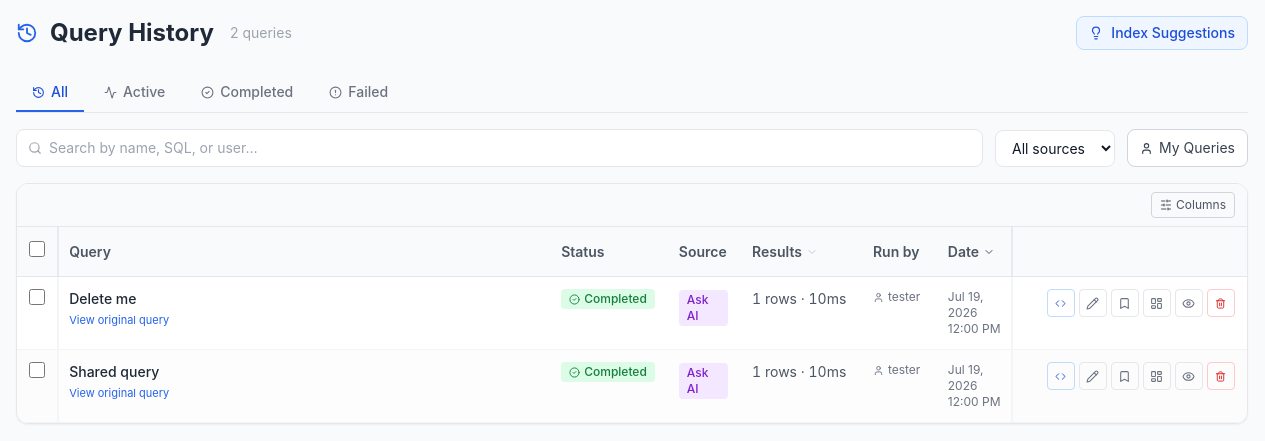
Test: History deletion concurrency › reloads the latest My Queries cohort when deletion finishes during the transition
The width and height of the screenshot is (1265, 441).
expect the text "Delete me" is shown: met, box top-left (69, 290), bottom-right (136, 307)
Click the button titled "Delete from history" in the row of "Delete me" at coordinates (1221, 303), box top-left (1207, 289), bottom-right (1235, 317)
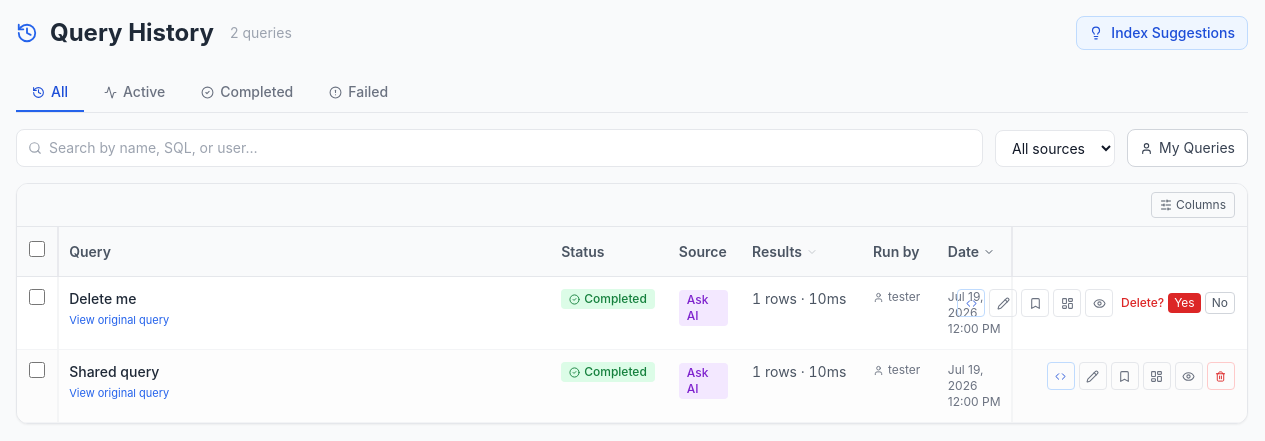
Click the button "Yes" at coordinates (1184, 303), box top-left (1168, 293), bottom-right (1201, 313)
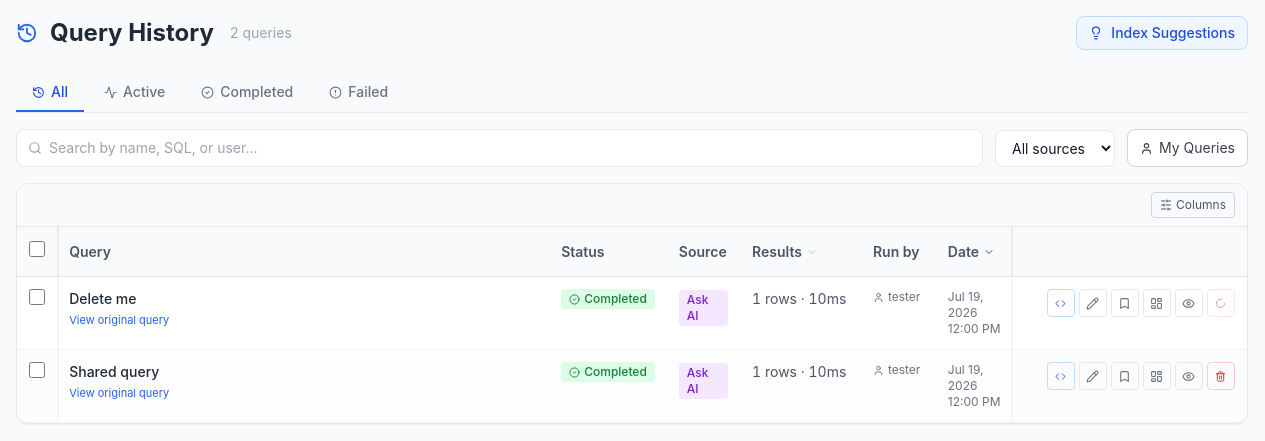
Click the button "My Queries" at coordinates (1188, 148), box top-left (1127, 129), bottom-right (1248, 167)
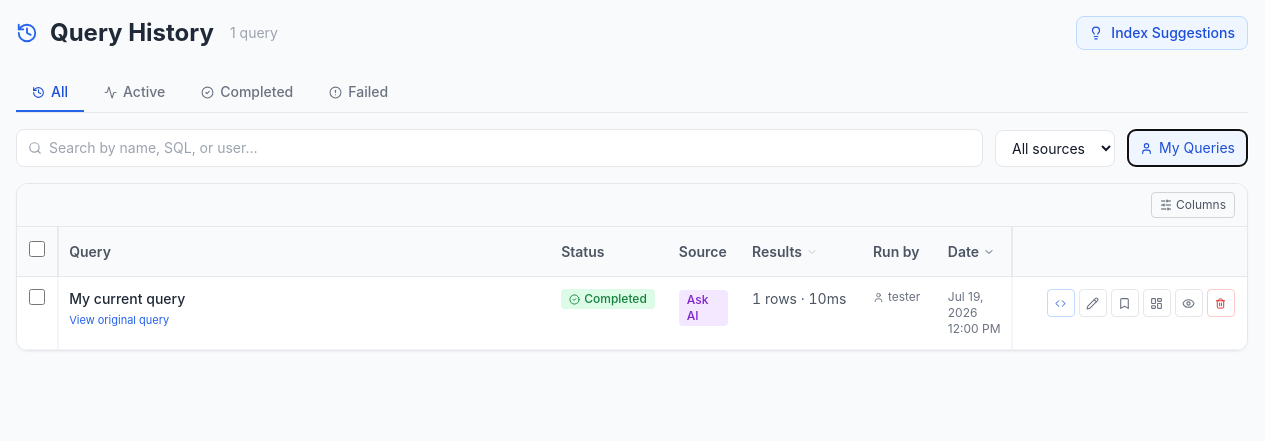
expect the text "My current query" is shown: met, box top-left (69, 290), bottom-right (185, 307)
expect the text "1 query" is shown: met, box top-left (230, 23), bottom-right (278, 43)
